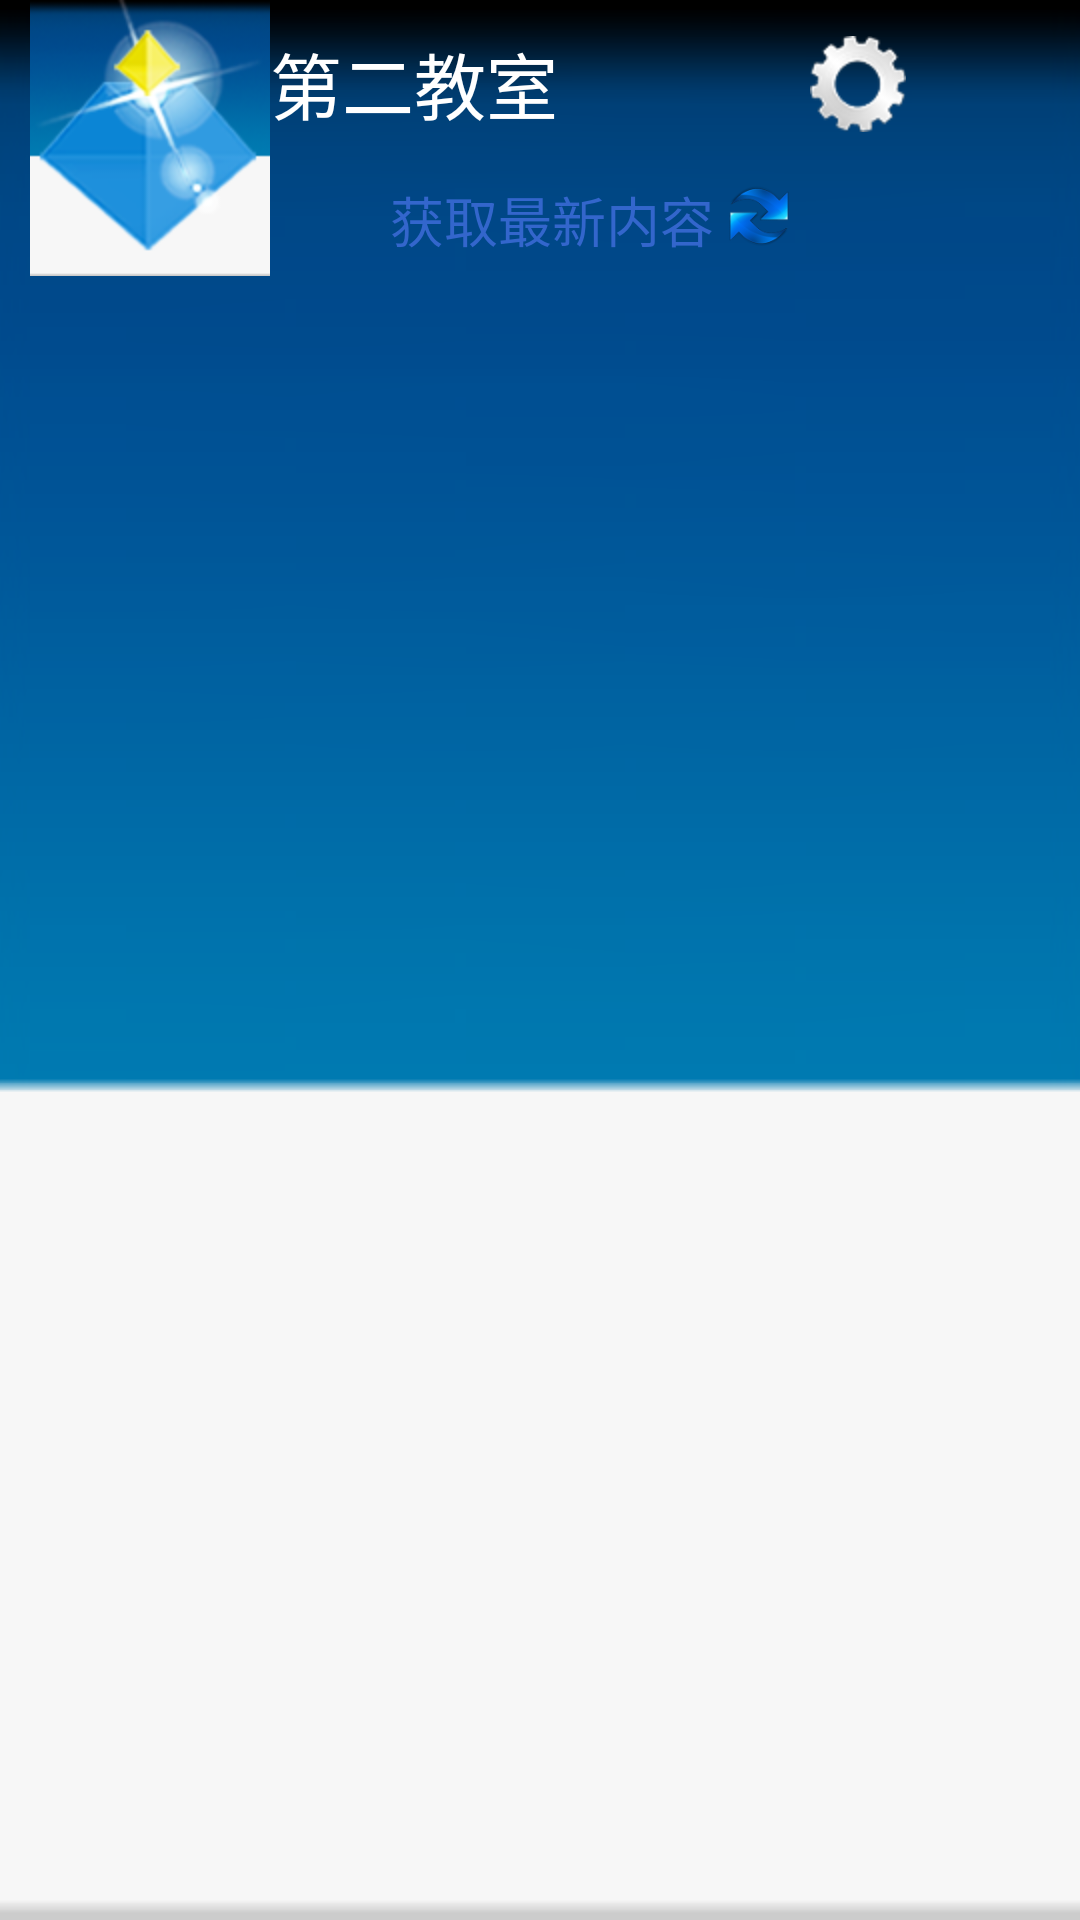

Screen size 1080w x 1920h. Icon name, then its center in pixels as [x,y]:
设置: [858,78]
